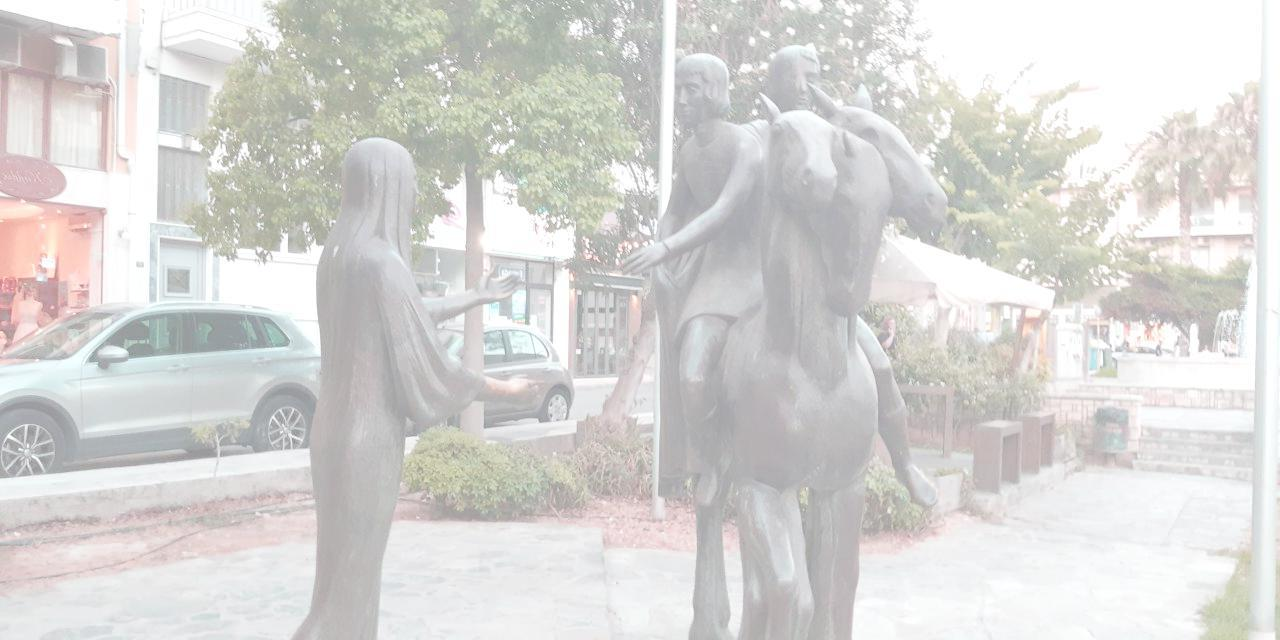Aretousa: (293, 47, 948, 640)
